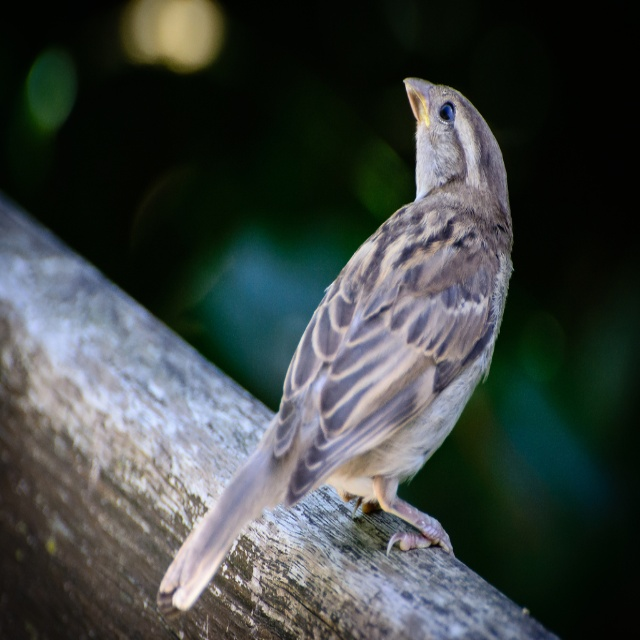Sparrow: (156, 80, 515, 617)
